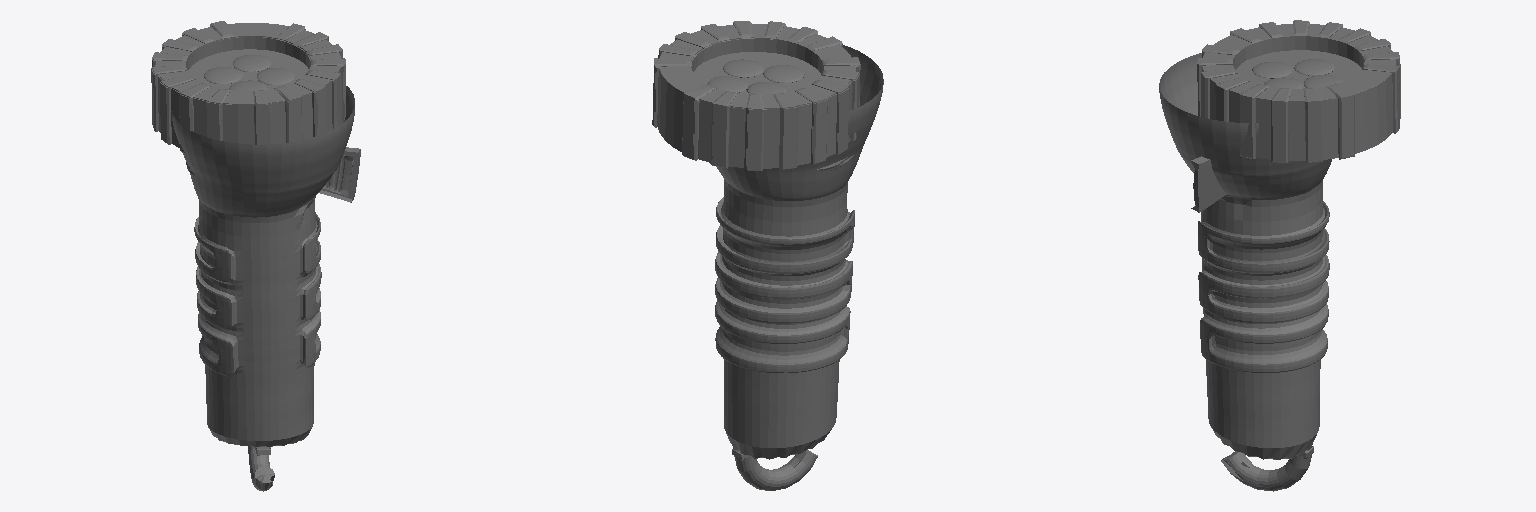
robot.urdf — object:
<?xml version="1.0"?>
<robot name="object">
  <link name="object">
    <visual>
      <origin xyz="0 0 0"/>
      <geometry>
        <mesh
          filename="../../mesh/oakink_virtual/flashlight_7.stl" />
      </geometry>
      <material name="mat">
        <color rgba="0.5 0.5 0.5 1"/>
      </material>
    </visual>

    <collision>
      <origin xyz="0 0 0"/>
      <geometry>
        <mesh
          filename="../../mesh/oakink_virtual/flashlight_7.stl" />
      </geometry>
    </collision>
  </link>
</robot>

--- Render facts (derived) ---
Views: 3 orthographic renders of the robot side by side, from view 1: azimuth 30°, elevation 25°; view 2: azimuth 150°, elevation 25°; view 3: azimuth 270°, elevation 25°.
Model object with 1 links and 0 joints (none), rooted at object, posed all joints at 0.
Visible links, largest first — view 1: object; view 2: object; view 3: object.
Boxes of the visible links, x1=… form: object: x1=151, y1=21, x2=360, y2=491; object: x1=652, y1=21, x2=883, y2=490; object: x1=1159, y1=20, x2=1400, y2=491.
Bounding box of the posed robot: 0.0585 × 0.068 × 0.1345 m (x, y, z).
1 mesh visuals loaded from 1 distinct referenced files (1 binary STL).